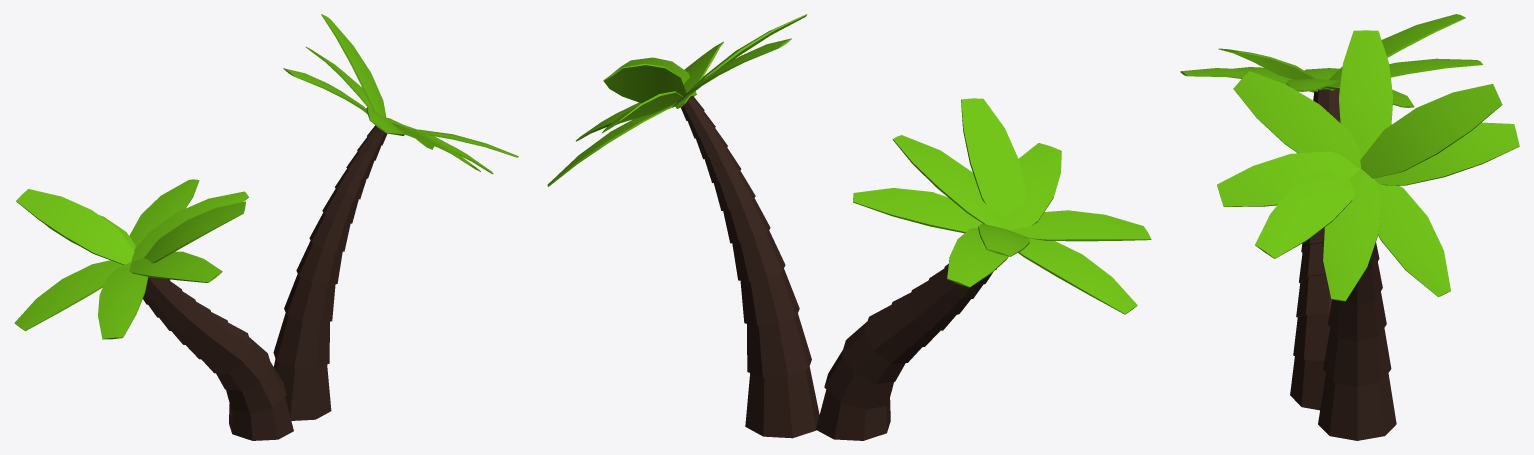
Rendered from Palm_Tree_03.obj.
3 renders of one model, left to right at view 1: azimuth 30°, elevation 25°; view 2: azimuth 150°, elevation 25°; view 3: azimuth 270°, elevation 25°, orthographic. The views are drawn at different scales.
Visible parts, largest first — view 1: LP_LEAF, LP_TREE_TRUNK_02, LP_TREE_TRUNK, LP_LEAF_02; view 2: LP_LEAF, LP_TREE_TRUNK_02, LP_TREE_TRUNK, LP_LEAF_02; view 3: LP_LEAF_02, LP_TREE_TRUNK_02, LP_TREE_TRUNK, LP_LEAF.
Boxes of the visible parts, x1=… form: LP_LEAF: x1=14, y1=179, x2=248, y2=339; LP_TREE_TRUNK_02: x1=273, y1=125, x2=387, y2=420; LP_TREE_TRUNK: x1=143, y1=277, x2=293, y2=440; LP_LEAF_02: x1=283, y1=14, x2=518, y2=174; LP_LEAF: x1=853, y1=98, x2=1151, y2=314; LP_TREE_TRUNK_02: x1=681, y1=95, x2=819, y2=438; LP_TREE_TRUNK: x1=816, y1=264, x2=996, y2=440; LP_LEAF_02: x1=547, y1=14, x2=807, y2=186; LP_LEAF_02: x1=1217, y1=30, x2=1519, y2=301; LP_TREE_TRUNK_02: x1=1318, y1=243, x2=1396, y2=440; LP_TREE_TRUNK: x1=1290, y1=89, x2=1340, y2=410; LP_LEAF: x1=1180, y1=14, x2=1482, y2=107.
Size of the model in its own units: 16.31 by 10.95 by 8.62.
